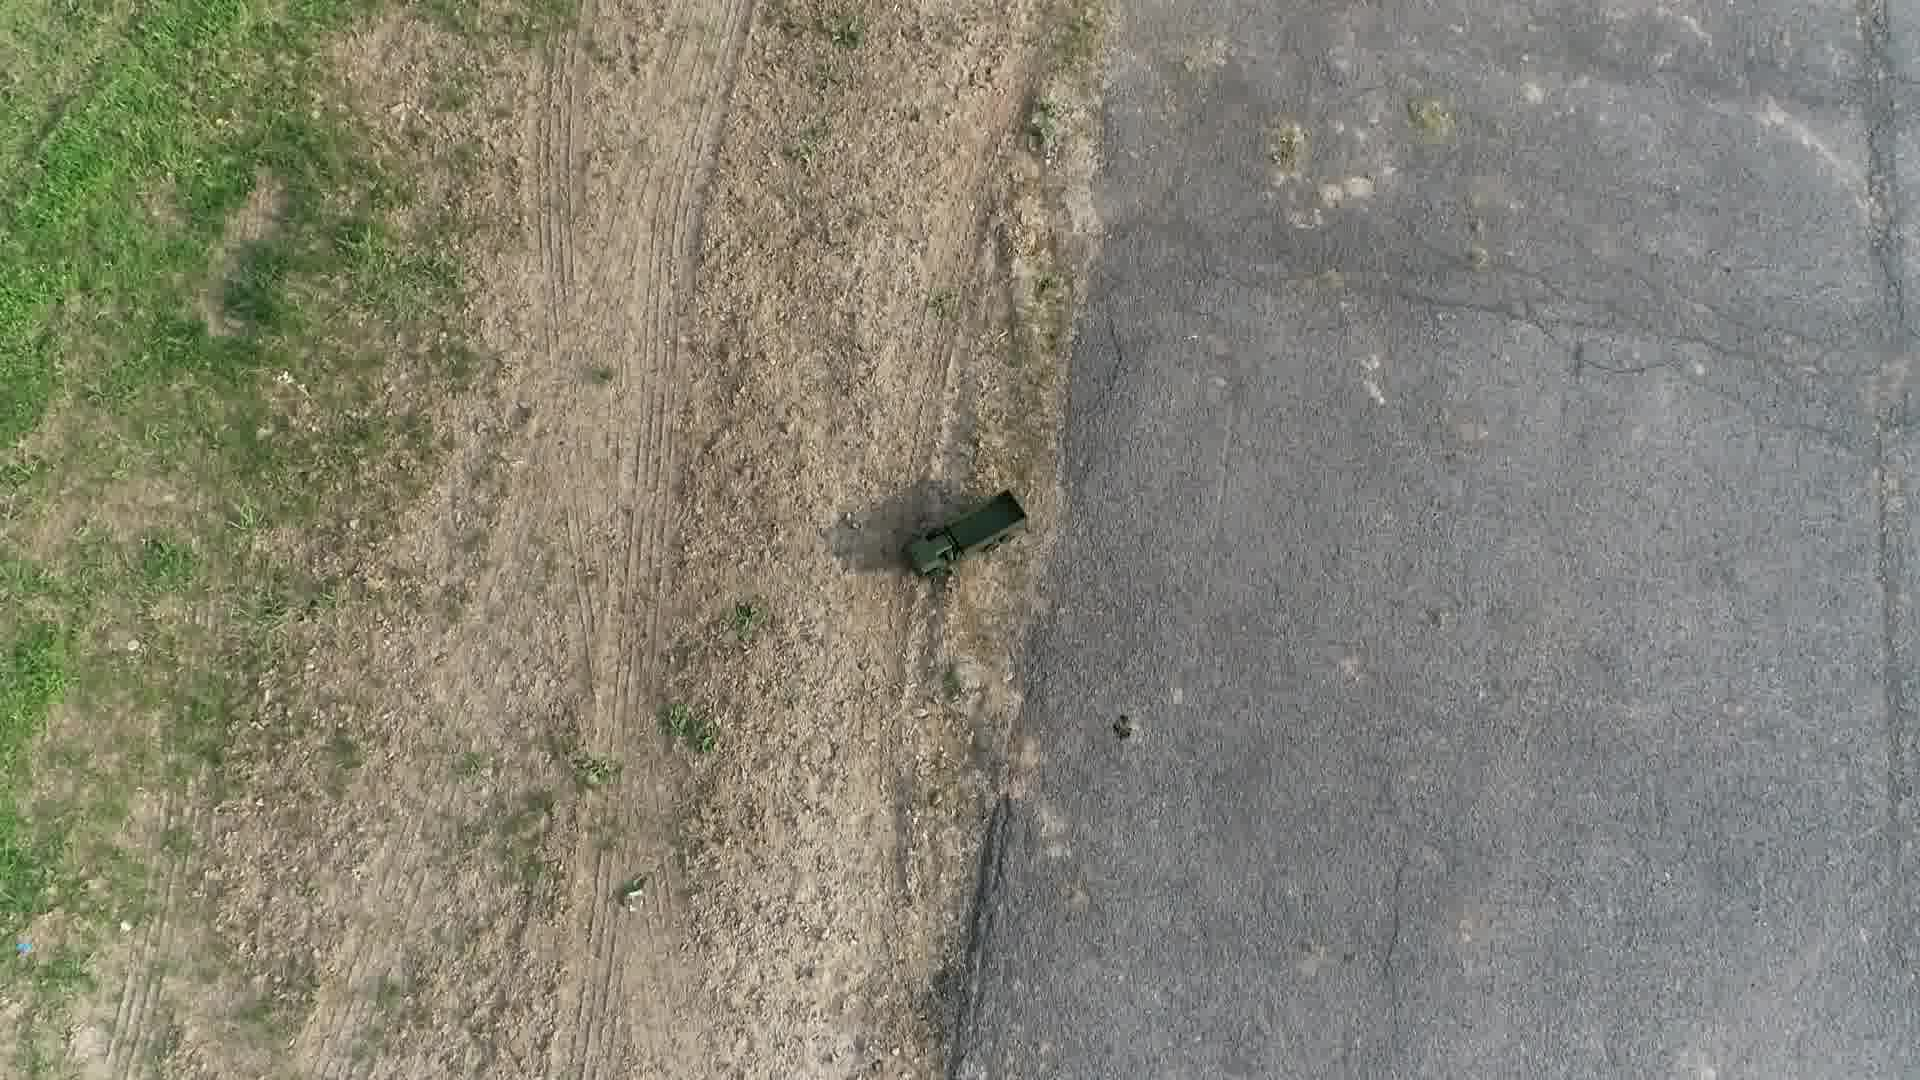transporter9: (897, 484, 1034, 583)
